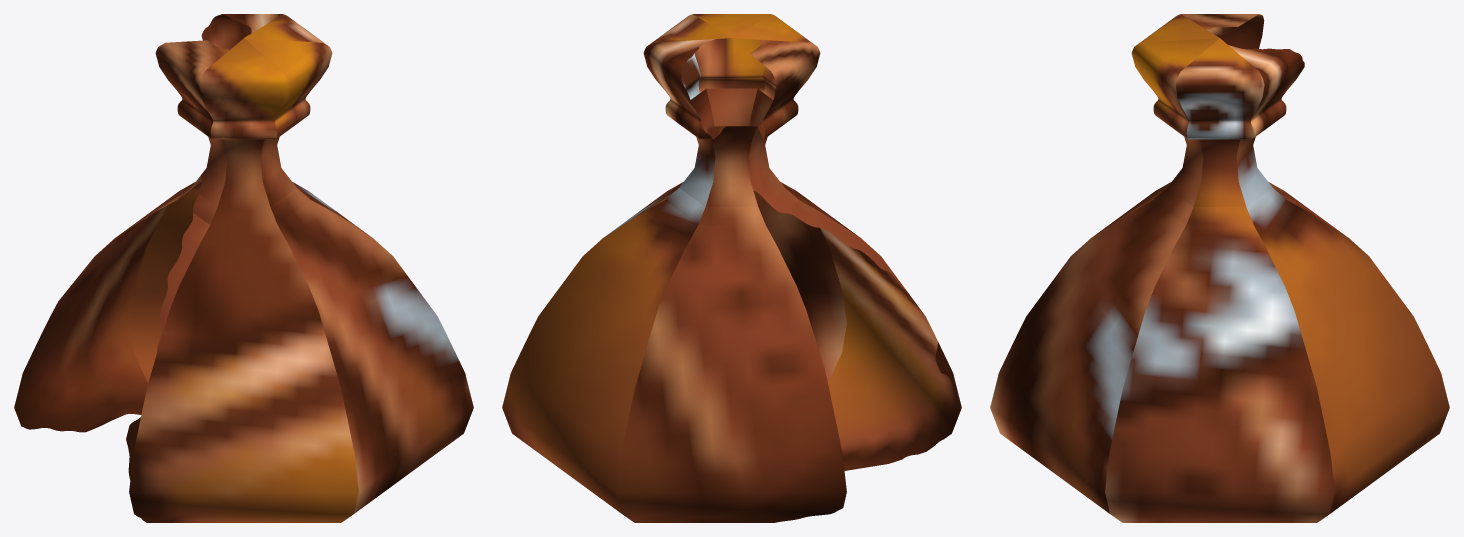
File: Bag.fbx
The picture shows the model from 3 angles, left to right: view 1: azimuth 30°, elevation 25°; view 2: azimuth 150°, elevation 25°; view 3: azimuth 270°, elevation 25°; orthographic projection.
Parts seen in each view (by area): view 1: Line001; view 2: Line001; view 3: Line001.
Boxes of the visible parts, x1=… form: Line001: x1=14, y1=14, x2=473, y2=522; Line001: x1=502, y1=14, x2=961, y2=522; Line001: x1=990, y1=14, x2=1449, y2=522.
Size of the model in its own units: 11.94 by 14.59 by 13.79.
